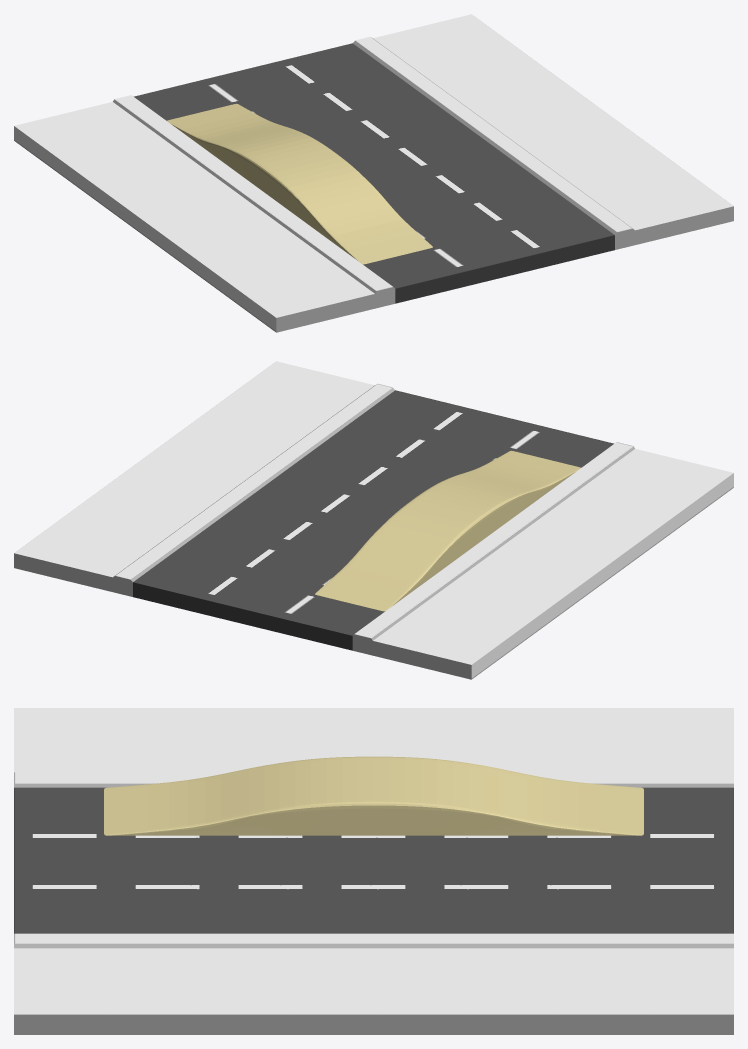
The model's file is voxel road up.fbx.
3 views of the same model, one above another, from view 1: azimuth 30°, elevation 25°; view 2: azimuth 150°, elevation 25°; view 3: azimuth 270°, elevation 25° (orthographic). The views are drawn at different scales.
Parts seen in each view (by area): view 1: road main, road up simple; view 2: road main, road up simple; view 3: road main, road up simple.
Boxes of the visible parts, x1,y1,x2,y2 form: road main: (14,14,733,332); road up simple: (167,103,432,264); road main: (14,361,733,679); road up simple: (315,450,580,611); road main: (14,708,733,1034); road up simple: (104,756,643,835).
Size of the model in its own units: 2426 by 194 by 2409.
Materials: 2 (1 with a texture image).
